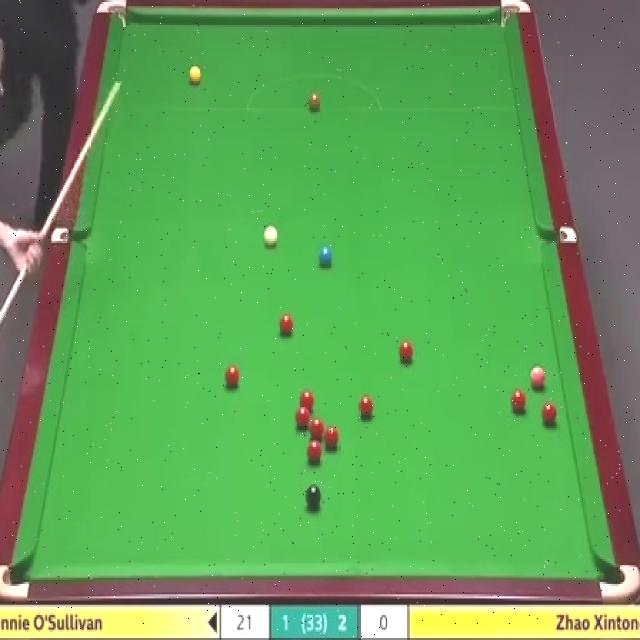black-ball: (306, 484, 322, 509)
blue-ball: (320, 244, 332, 268)
brown-ball: (308, 92, 322, 111)
pink-ball: (529, 365, 546, 388)
red-ball: (359, 393, 376, 421), (541, 402, 559, 426), (510, 388, 526, 413), (324, 425, 340, 449), (278, 314, 295, 336), (399, 339, 414, 363), (224, 363, 239, 387), (310, 420, 326, 442), (296, 407, 310, 431), (307, 440, 321, 463), (300, 390, 314, 412)
white-ball: (263, 225, 279, 248)
yellow-ball: (188, 64, 202, 86)
